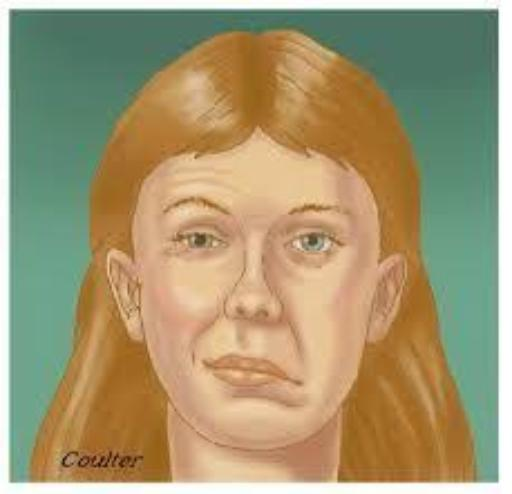left_eye: (286, 234, 342, 260)
left_lip_corner: (283, 372, 309, 391)
right_eye: (174, 232, 229, 256)
right_lip_corner: (197, 353, 220, 377)
